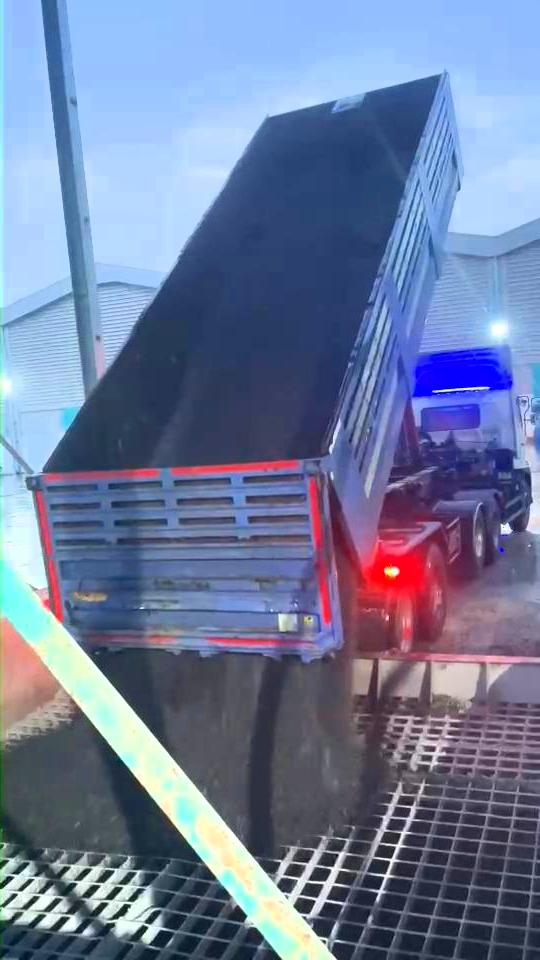gravel: (165, 133, 405, 465), (98, 648, 395, 854), (3, 713, 202, 858), (400, 768, 540, 796), (420, 695, 468, 716)
